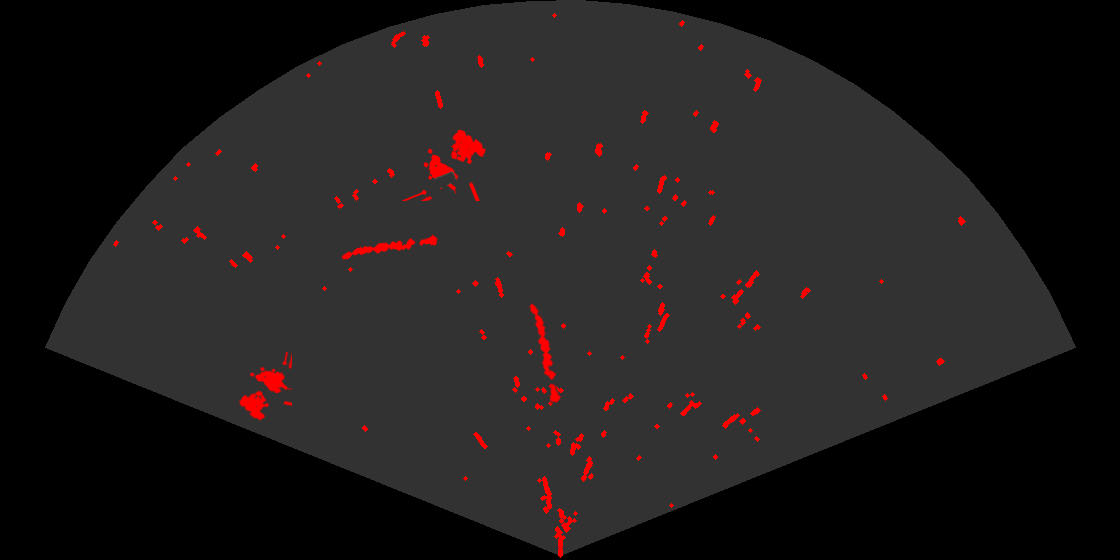cage: (402, 128, 487, 201), (237, 352, 292, 423)
chain: (528, 302, 563, 405), (340, 233, 440, 261)
